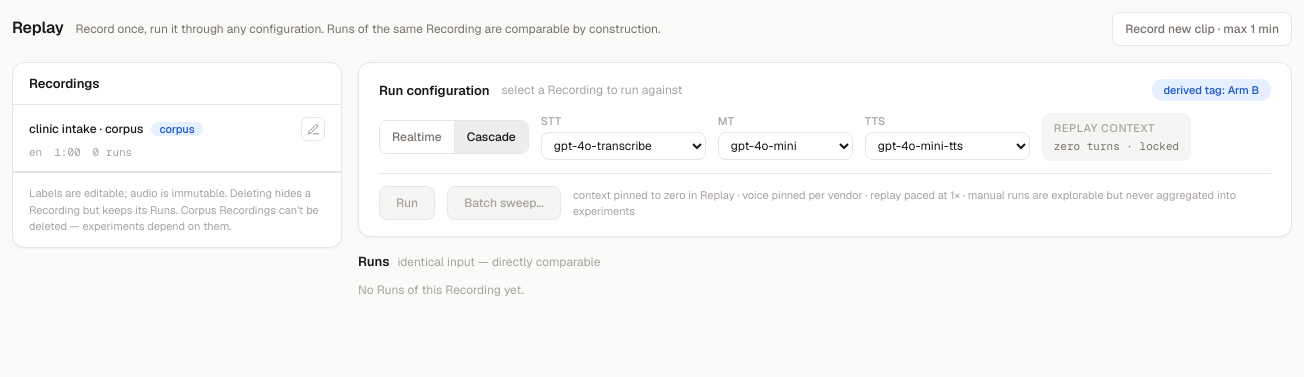
Test: ticket 024 — Run and Batch sweep have no affordance without a selection › selection is the ONLY thing that flips them — nothing was executed to enable them
Expected: the element that starts with "Recordings" is shown, [12,62,342,248]
Expected: the button "Run" is disabled, [379,186,435,220]
Click the option "clinic intake · corpus corpus en 1:00 0 runs" at [177, 138], box [13,105,341,172]
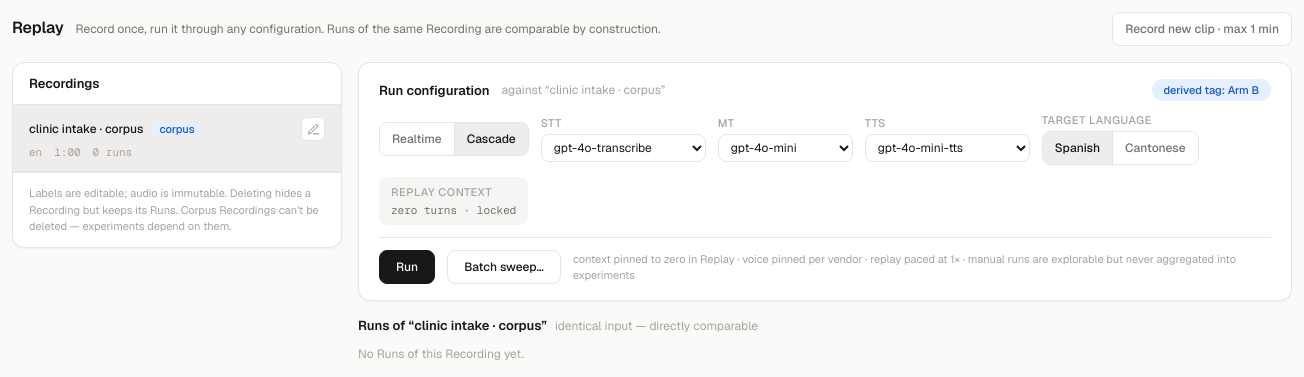
Now the button "Run" is enabled, box [379,250,435,284]
Now the button "Batch sweep…" is enabled, box [447,250,561,284]
